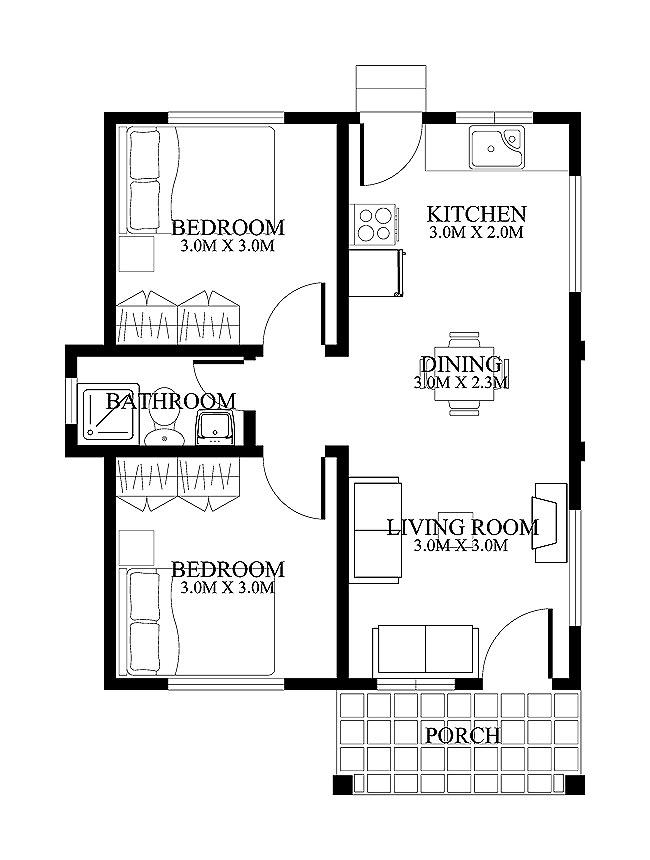room: (343, 117, 571, 684), (110, 119, 343, 350), (110, 452, 339, 682), (71, 350, 250, 449)
